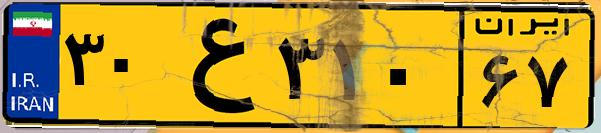0: (385, 28, 445, 110), (110, 28, 158, 98)
1: (330, 28, 385, 110)
3: (270, 28, 330, 110), (57, 26, 110, 100)
6: (475, 38, 525, 113)
7: (525, 38, 570, 115)
ع: (158, 12, 270, 120)
